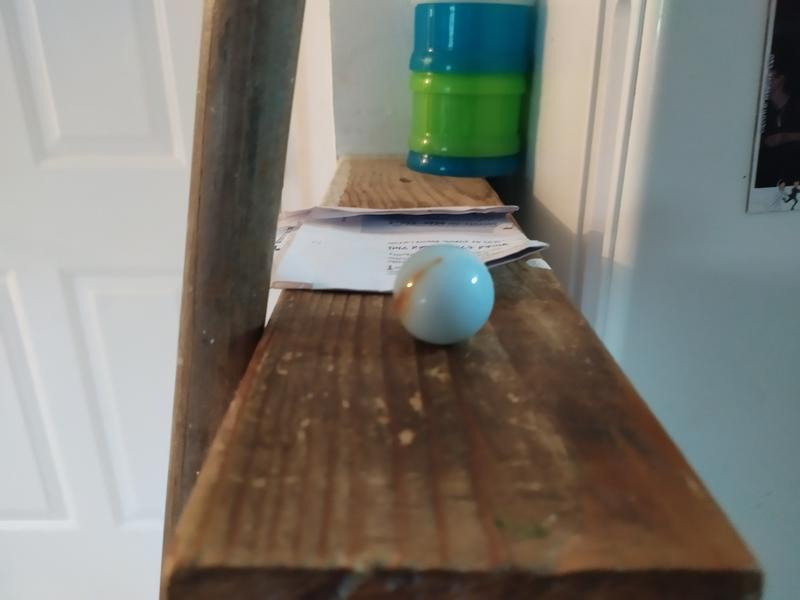Warning: (389, 239, 499, 348)
